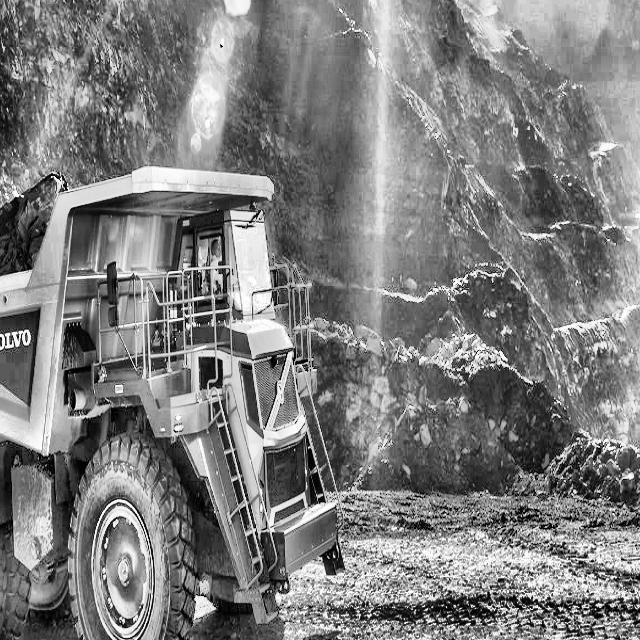dump_truck: (0, 132, 365, 640)
